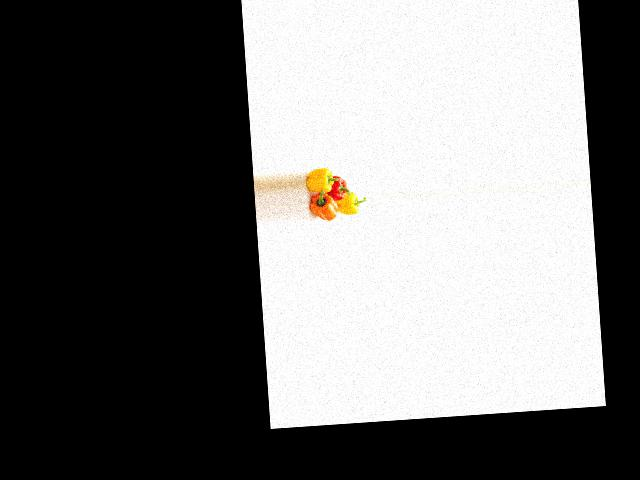bell_pepper: (305, 166, 339, 200)
